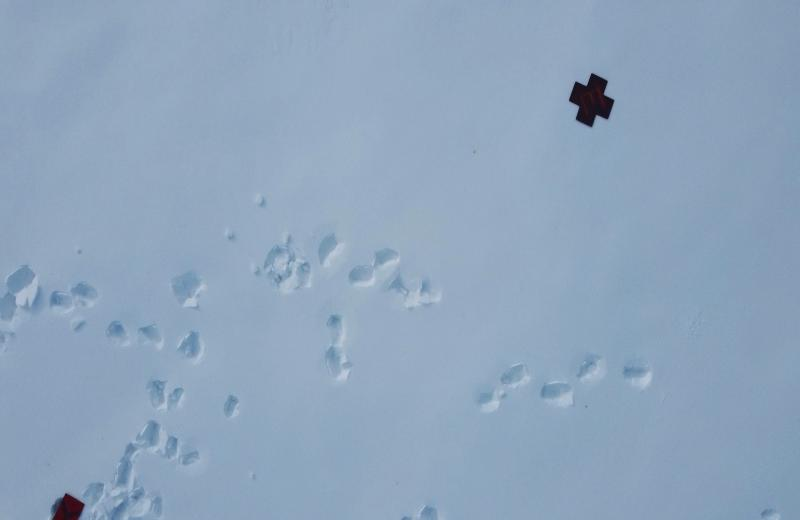Cross: (570, 72, 615, 127)
Rectangle: (51, 491, 87, 520)
